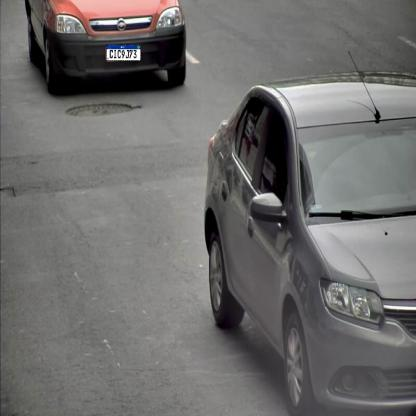PlacaM: (106, 44, 141, 61)
